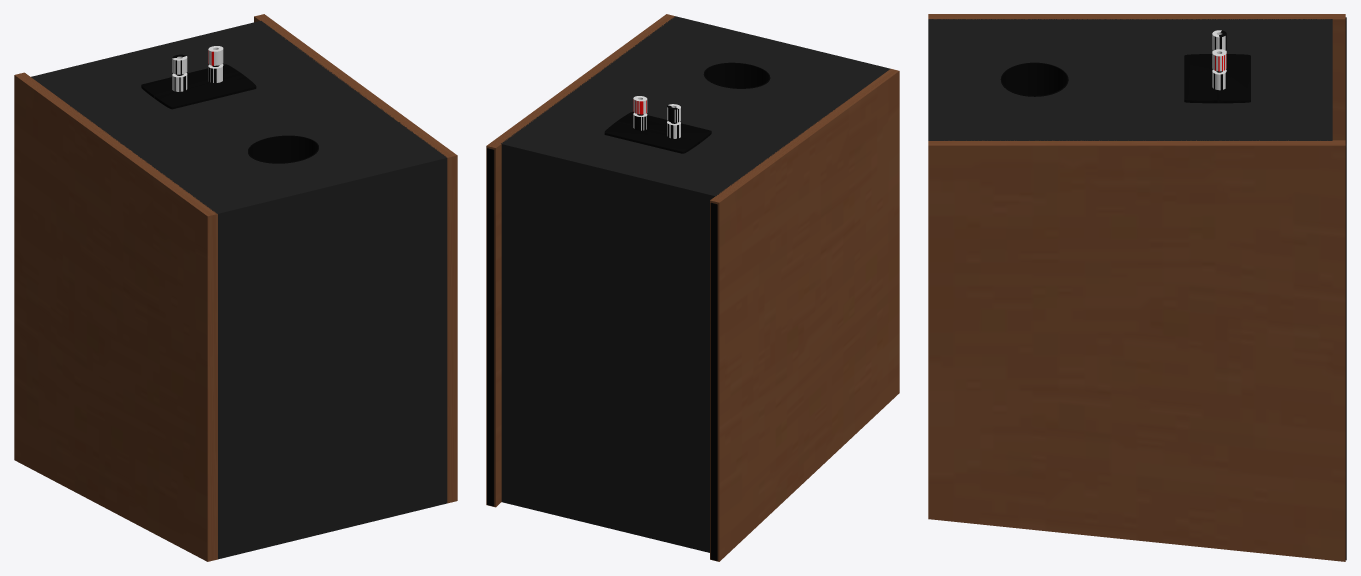
File: spk-edifier-r1280db.glb
The picture shows the model from 3 angles, left to right: view 1: azimuth 30°, elevation 25°; view 2: azimuth 150°, elevation 25°; view 3: azimuth 270°, elevation 25°; orthographic projection. The views are drawn at different scales.
Parts seen in each view (by area): view 1: body; view 2: body; view 3: body.
Part boxes in pixels (x1,y1,x2,y2): body: (14,14,457,561); body: (486,14,899,561); body: (928,14,1346,561).
Bounding box in the file's own units: 0.146 × 0.234 × 0.196.
8 materials, 2 textured.
